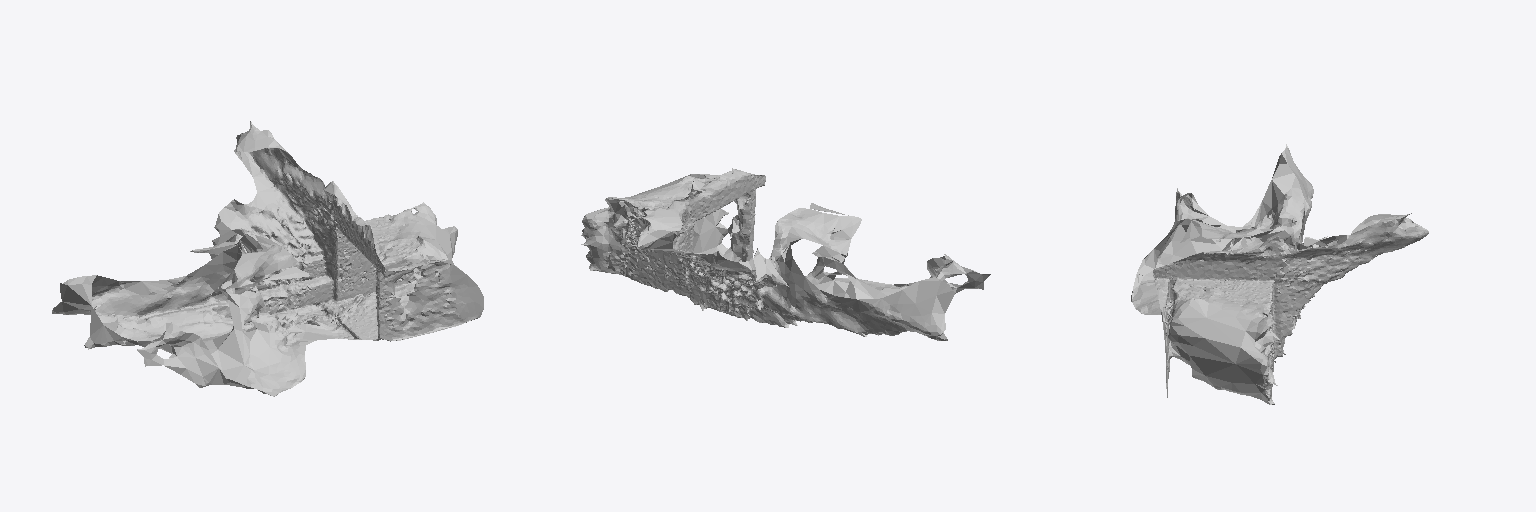
The model's file is LoveYou.obj.
3 renders of one model, left to right at view 1: azimuth 30°, elevation 25°; view 2: azimuth 150°, elevation 25°; view 3: azimuth 270°, elevation 25°, orthographic.
Bounding box in the file's own units: 11.12 × 4.01 × 7.48.